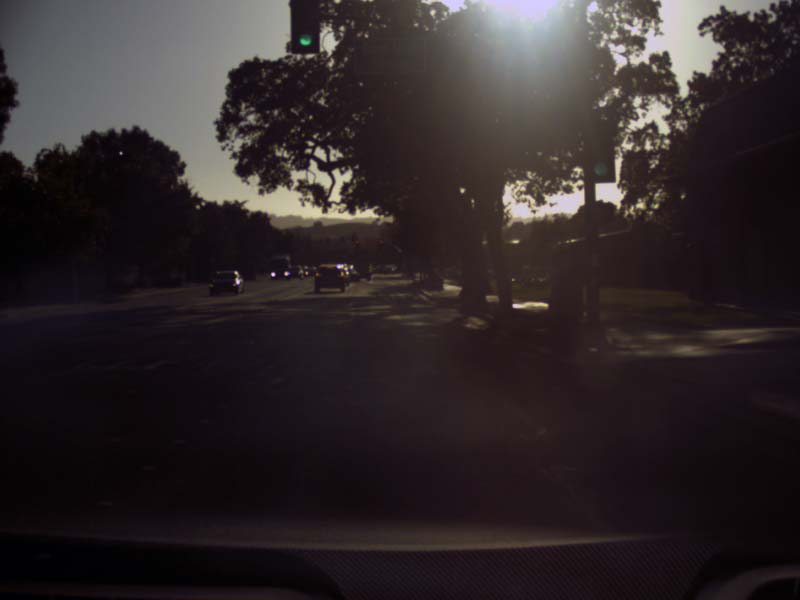Green: (586, 122, 613, 181)
